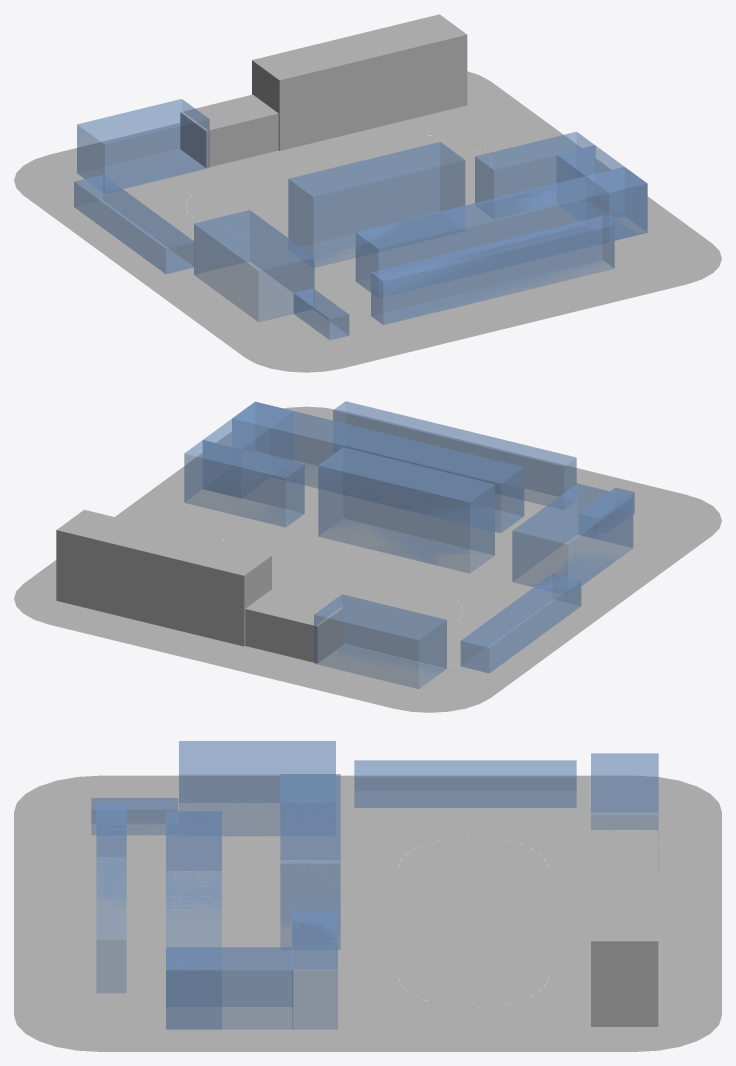
File: simpleModel.fbx
3 renders of one model, top to bottom at view 1: azimuth 30°, elevation 25°; view 2: azimuth 150°, elevation 25°; view 3: azimuth 270°, elevation 25°, orthographic. The views are drawn at different scales.
Parts seen in each view (by area): view 1: 物件_4, 物件_29, 物件_5, 物件_37, 物件_28, 物件_34, 物件_38, 物件_33, 物件_31, 物件_35, 物件_32, 物件_30 (+2 smaller); view 2: 物件_4, 物件_29, 物件_37, 物件_34, 物件_5, 物件_38, 物件_33, 物件_28, 物件_31, 物件_35, 物件_32, 物件_36 (+2 smaller); view 3: 物件_4, 物件_5, 物件_28, 物件_33, 物件_29, 物件_37, 物件_32, 物件_36, 物件_34, 物件_38, 物件_35, 物件_31 (+1 smaller).
Part boxes in pixels (left/top/right/bottom): 物件_4: left=14, top=71, right=721, bottom=372; 物件_29: left=252, top=14, right=467, bottom=150; 物件_5: left=96, top=106, right=555, bottom=266; 物件_37: left=355, top=167, right=647, bottom=297; 物件_28: left=186, top=135, right=491, bottom=231; 物件_34: left=288, top=142, right=465, bottom=267; 物件_38: left=371, top=216, right=614, bottom=324; 物件_33: left=194, top=210, right=314, bottom=321; 物件_31: left=77, top=99, right=209, bottom=192; 物件_35: left=475, top=131, right=595, bottom=213; 物件_32: left=74, top=174, right=194, bottom=274; 物件_30: left=180, top=94, right=278, bottom=167; 物件_4: left=14, top=406, right=721, bottom=712; 物件_29: left=56, top=509, right=271, bottom=646; 物件_37: left=232, top=402, right=524, bottom=532; 物件_34: left=318, top=447, right=494, bottom=573; 物件_5: left=159, top=509, right=551, bottom=671; 物件_38: left=333, top=401, right=576, bottom=508; 物件_33: left=512, top=483, right=633, bottom=595; 物件_28: left=209, top=539, right=462, bottom=635; 物件_31: left=314, top=594, right=446, bottom=688; 物件_35: left=184, top=440, right=304, bottom=527; 物件_32: left=460, top=574, right=581, bottom=673; 物件_36: left=203, top=401, right=293, bottom=498; 物件_4: left=14, top=775, right=721, bottom=1051; 物件_5: left=354, top=808, right=593, bottom=1025; 物件_28: left=398, top=837, right=548, bottom=1007; 物件_33: left=179, top=741, right=335, bottom=835; 物件_29: left=591, top=830, right=658, bottom=1026; 物件_37: left=166, top=811, right=221, bottom=1029; 物件_32: left=354, top=760, right=576, bottom=807; 物件_36: left=166, top=947, right=293, bottom=1029; 物件_34: left=280, top=774, right=340, bottom=949; 物件_38: left=96, top=804, right=126, bottom=992; 物件_35: left=292, top=910, right=337, bottom=1029; 物件_31: left=591, top=753, right=658, bottom=873.
Bounding box in the file's own units: 1106 × 161 × 1199.
